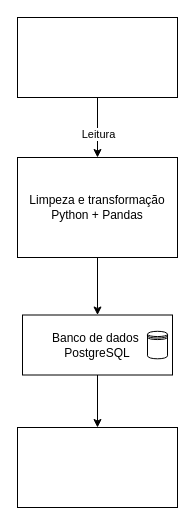
Some shapes in this 195 by 525 pixel diagram are drawn without their labels. The centre of each missing label's shape, as x and y in pixels:
Análise e consultas SQL + Python: (x=97, y=467)
Fonte de dados: (x=97, y=57)
